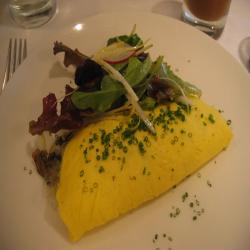omelette: (54, 102, 234, 235)
salad: (93, 56, 201, 107)
